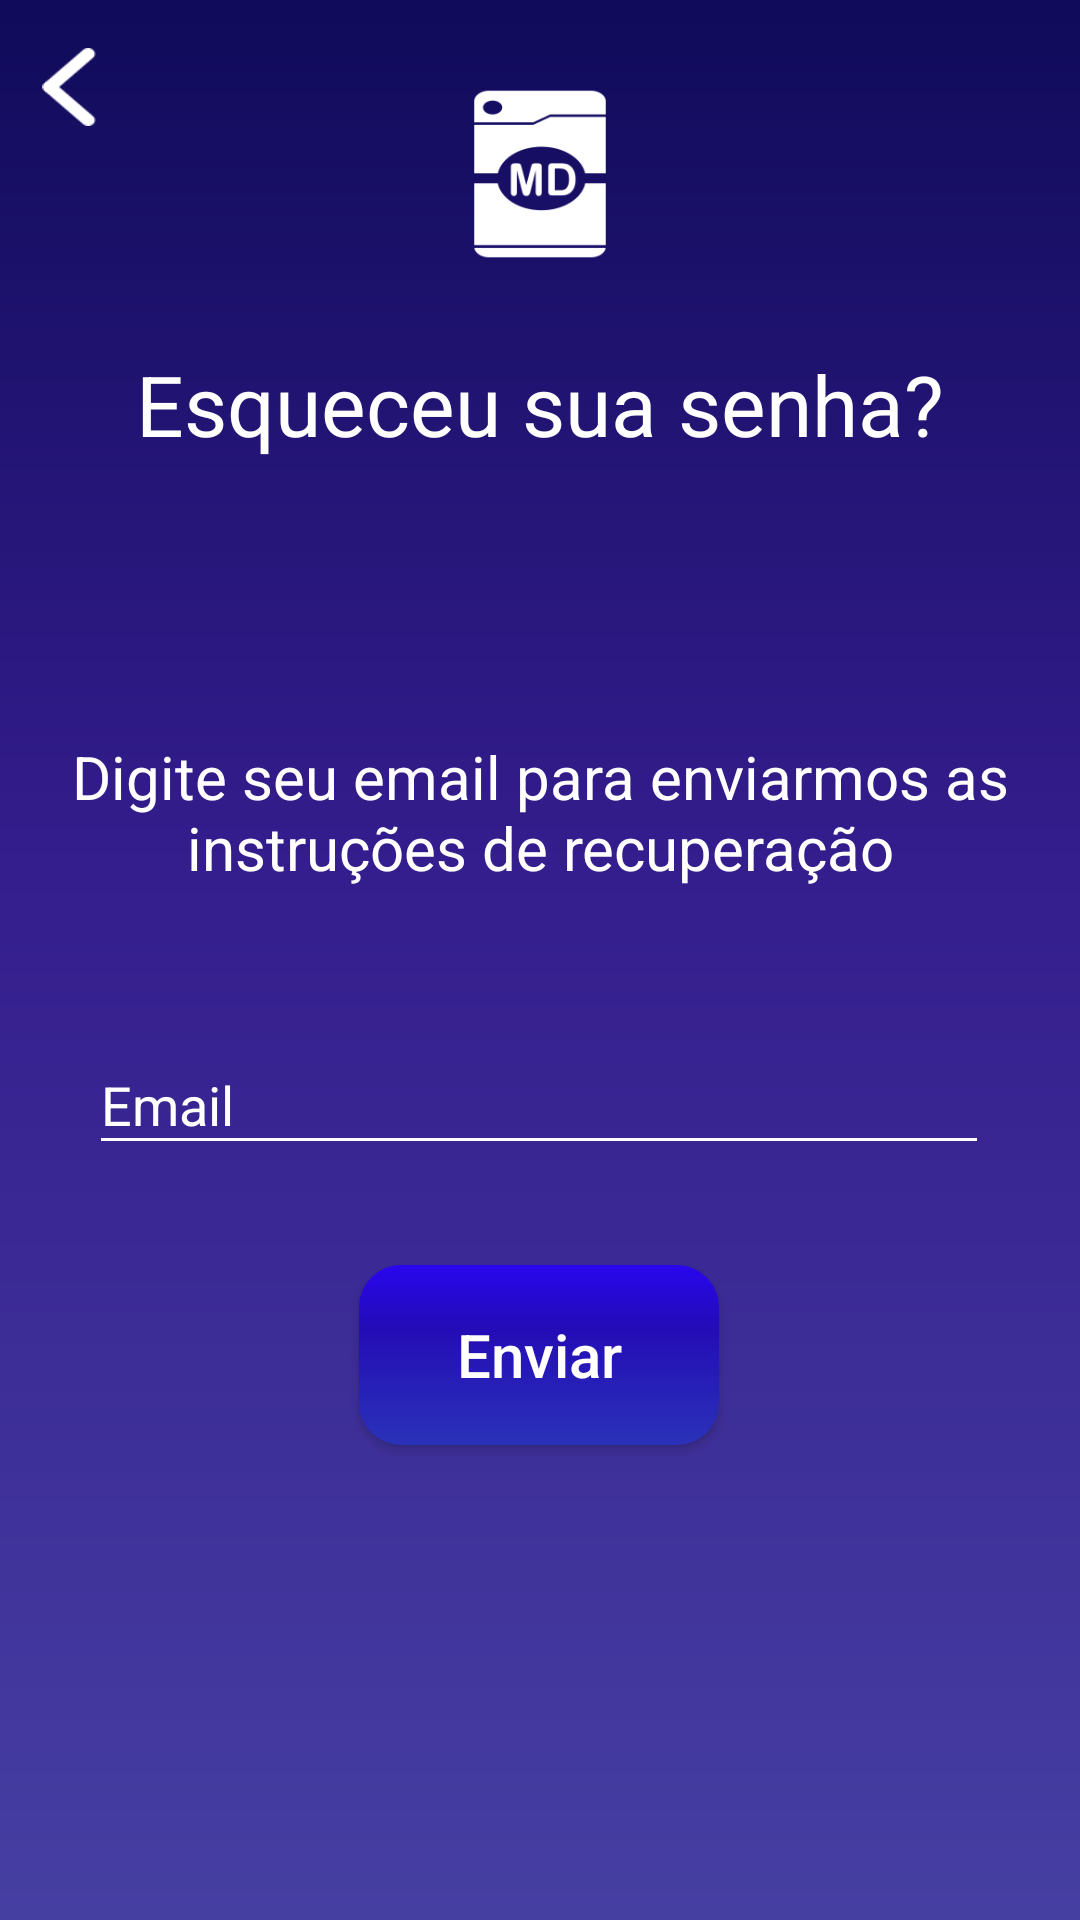

Screen size 1080 × 1920. Icon name, then its box in pixels as (x1, y1, x2, y2):
voltar: (42, 48, 96, 126)
